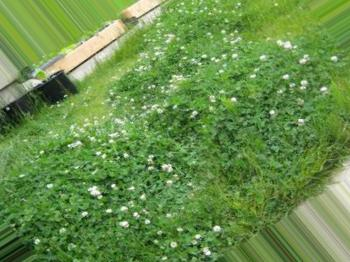patch: (82, 101, 111, 114)
